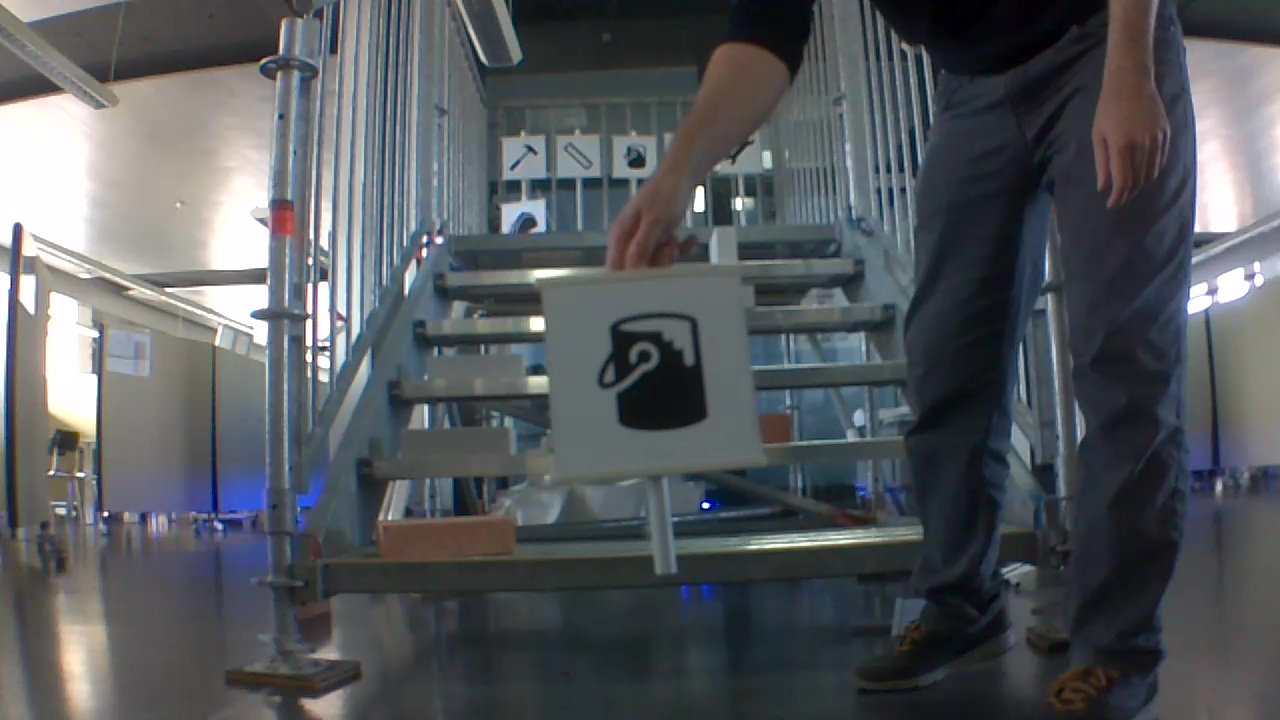brick: (378, 514, 511, 559), (403, 426, 516, 455), (426, 354, 524, 379), (709, 227, 737, 263), (762, 412, 791, 442)
bucket: (591, 306, 711, 437), (618, 138, 650, 173)
hammer: (505, 141, 540, 174)
ruler: (561, 138, 593, 172)
taco: (502, 205, 541, 232)
